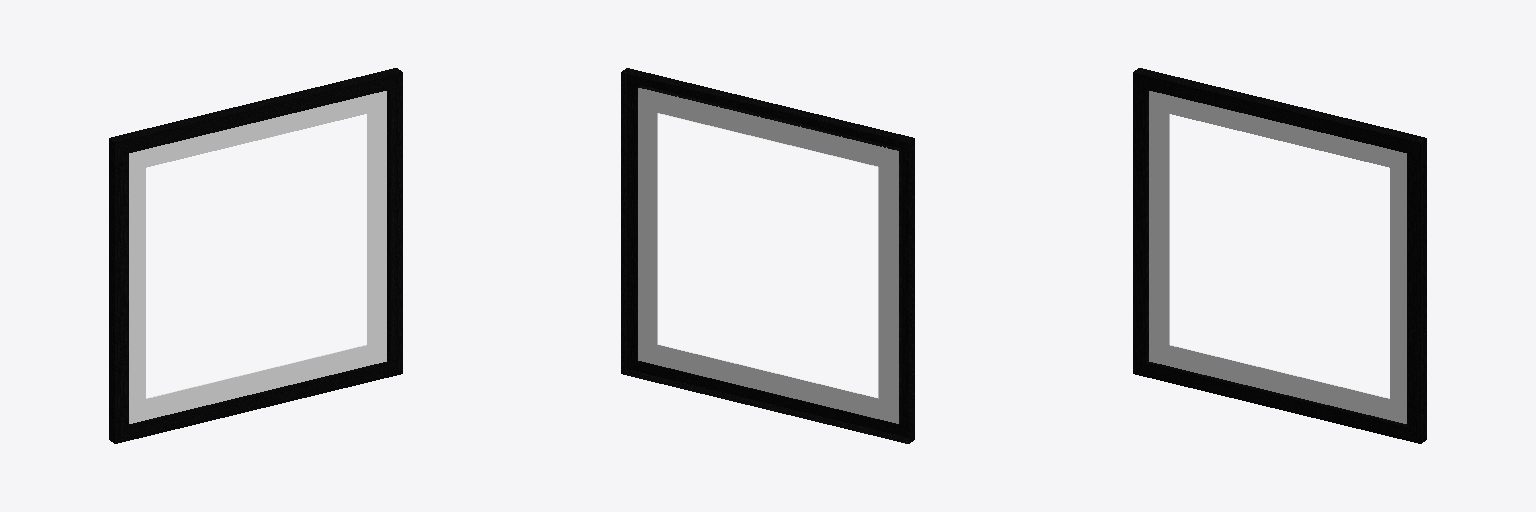
3 renders of one model, left to right at view 1: azimuth 30°, elevation 25°; view 2: azimuth 150°, elevation 25°; view 3: azimuth 330°, elevation 25°, orthographic.
Visible parts, largest first — view 1: padding, frame_sides, frame_top, frame_bottom; view 2: padding, frame_sides, frame_bottom, frame_top; view 3: padding, frame_sides, frame_top, frame_bottom.
Boxes of the visible parts, <box> form: padding: <box>129,91,386,423</box>; frame_sides: <box>109,68,402,443</box>; frame_top: <box>116,73,401,152</box>; frame_bottom: <box>116,363,402,443</box>; padding: <box>638,88,898,423</box>; frame_sides: <box>621,68,914,443</box>; frame_bottom: <box>628,361,908,437</box>; frame_top: <box>633,75,907,148</box>; padding: <box>1149,91,1406,423</box>; frame_sides: <box>1133,68,1426,443</box>; frame_top: <box>1134,73,1419,152</box>; frame_bottom: <box>1133,363,1419,443</box>.
Size of the model in its own units: 2.61 by 2.61 by 0.1.
2 materials, 1 textured.